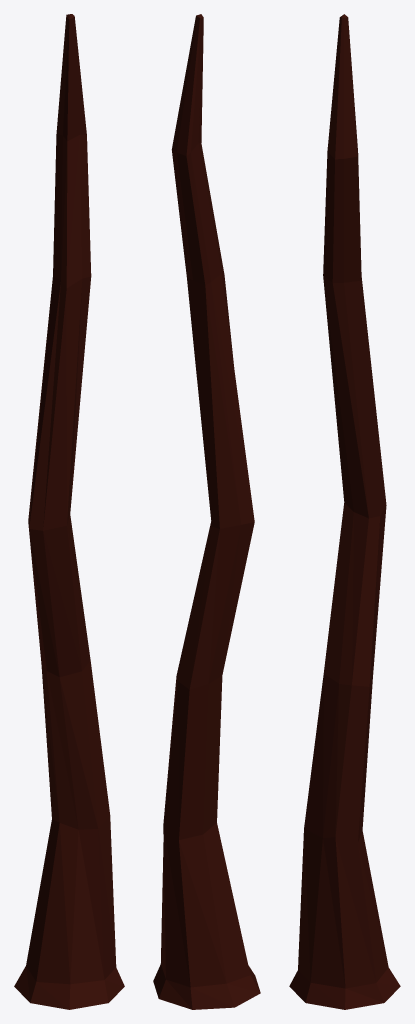
File: Trunk_1.obj
3 views of the same model, side by side, from view 1: azimuth 90°, elevation 25°; view 2: azimuth 210°, elevation 25°; view 3: azimuth 270°, elevation 25° (orthographic).
Parts seen in each view (by area): view 1: Trunk.1; view 2: Trunk.1; view 3: Trunk.1.
Boxes of the visible parts, bbox=[...] form: Trunk.1: bbox=[14, 14, 124, 1009]; Trunk.1: bbox=[153, 14, 260, 1009]; Trunk.1: bbox=[289, 14, 400, 1009].
Size of the model in its own units: 0.371 by 3.58 by 0.371.
